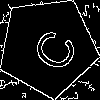C: (23, 21, 80, 75)
